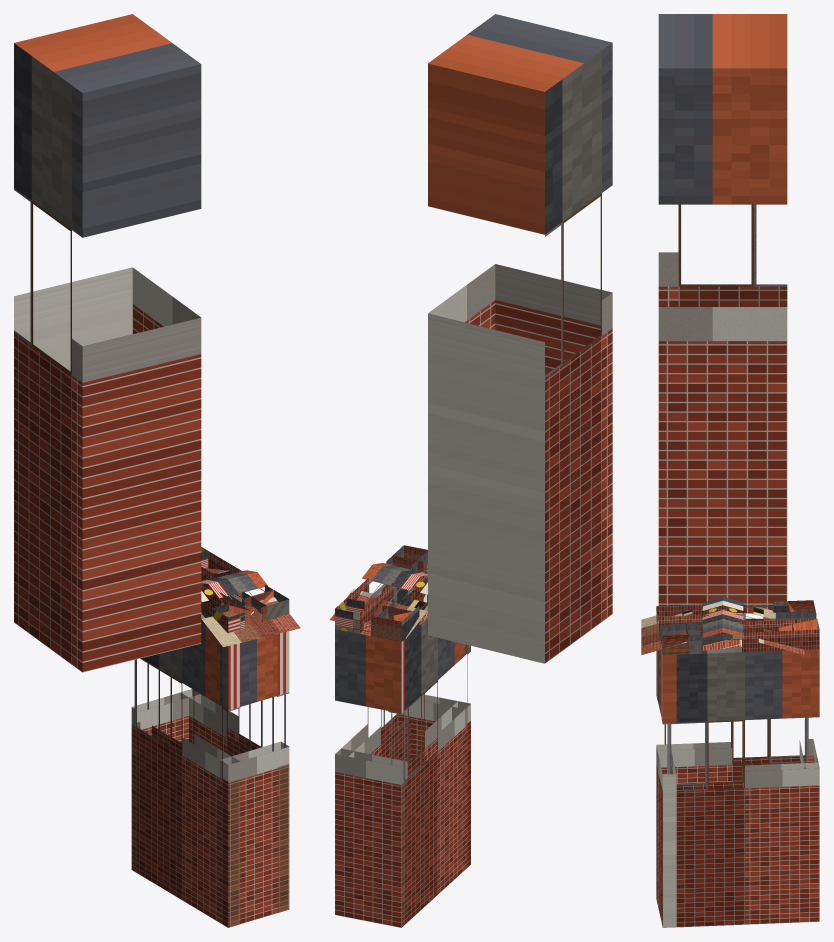
3 renders of one model, left to right at view 1: azimuth 30°, elevation 25°; view 2: azimuth 150°, elevation 25°; view 3: azimuth 270°, elevation 25°, orthographic. The views are drawn at different scales.
Parts seen in each view (by area): view 1: 238531843__chimney_0_xb, 238531843__wall_2_xb, 238531843__wall_3_xb, 238531843__wall_0_xb, 238531843_roof_-1_xb, 238531843__wall_1_xb, 238531843__cornice_0, 238531843__cornice_2, 238531843__cornice_3; view 2: 238531843__chimney_0_xb, 238531843__wall_1_xb, 238531843__wall_2_xb, 238531843__wall_3_xb, 238531843__wall_0_xb, 238531843__cornice_1, 238531843_roof_1_xb, 238531843__cornice_0, 238531843__cornice_2; view 3: 238531843__chimney_0_xb, 238531843__wall_0_xb, 238531843__wall_3_xb, 238531843__wall_2_xb, 238531843__cornice_0, 238531843__cornice_2, 238531843_roof_-1_xb, 238531843_roof_1_xb, 238531843__cornice_3.
Boxes of the visible parts, bbox=[...] form: 238531843__chimney_0_xb: bbox=[14, 14, 201, 672]; 238531843__wall_2_xb: bbox=[131, 622, 240, 927]; 238531843__wall_3_xb: bbox=[220, 634, 289, 927]; 238531843__wall_0_xb: bbox=[180, 588, 289, 912]; 238531843_roof_-1_xb: bbox=[201, 572, 300, 646]; 238531843__wall_1_xb: bbox=[131, 660, 200, 742]; 238531843__cornice_0: bbox=[201, 548, 289, 620]; 238531843__cornice_2: bbox=[201, 581, 250, 633]; 238531843__cornice_3: bbox=[212, 590, 273, 629]; 238531843__chimney_0_xb: bbox=[428, 14, 612, 663]; 238531843__wall_1_xb: bbox=[335, 629, 407, 927]; 238531843__wall_2_xb: bbox=[388, 617, 470, 927]; 238531843__wall_3_xb: bbox=[398, 592, 470, 869]; 238531843__wall_0_xb: bbox=[341, 584, 410, 762]; 238531843__cornice_1: bbox=[335, 598, 412, 641]; 238531843_roof_1_xb: bbox=[330, 564, 427, 638]; 238531843__cornice_0: bbox=[335, 545, 427, 633]; 238531843__cornice_2: bbox=[377, 571, 427, 641]; 238531843__chimney_0_xb: bbox=[658, 14, 787, 613]; 238531843__wall_0_xb: bbox=[661, 646, 819, 927]; 238531843__wall_3_xb: bbox=[656, 649, 676, 927]; 238531843__wall_2_xb: bbox=[656, 634, 814, 903]; 238531843__cornice_0: bbox=[660, 618, 819, 654]; 238531843__cornice_2: bbox=[656, 601, 815, 634]; 238531843_roof_-1_xb: bbox=[641, 597, 722, 655]; 238531843_roof_1_xb: bbox=[723, 597, 804, 655]; 238531843__cornice_3: bbox=[657, 605, 688, 655].
Bounding box in the file's own units: 0.2644 × 1.05 × 0.2076.
Materials: 1 (1 with a texture image).
